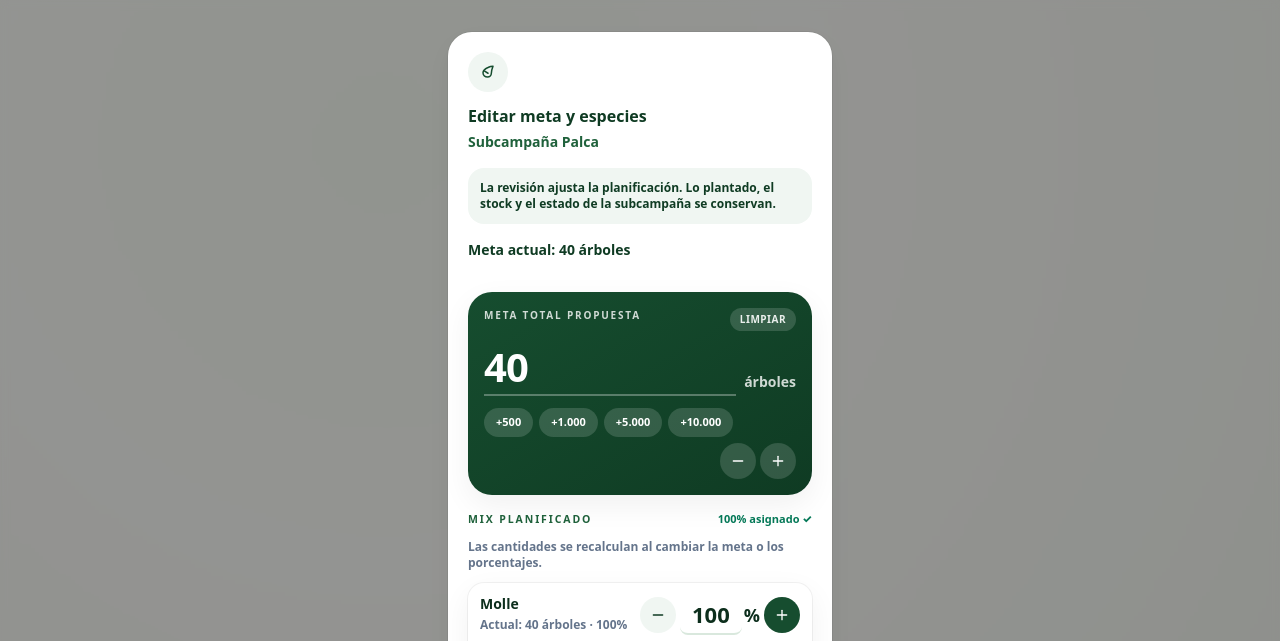
Test: Editor de revisión de metas y especies › rechaza la meta inválida 1.5 sin perder lo escrito
Replace the text in the field labelled "Meta total propuesta" with "1.5" at (610, 368), box [484,339,736,396]
(page scrolled)
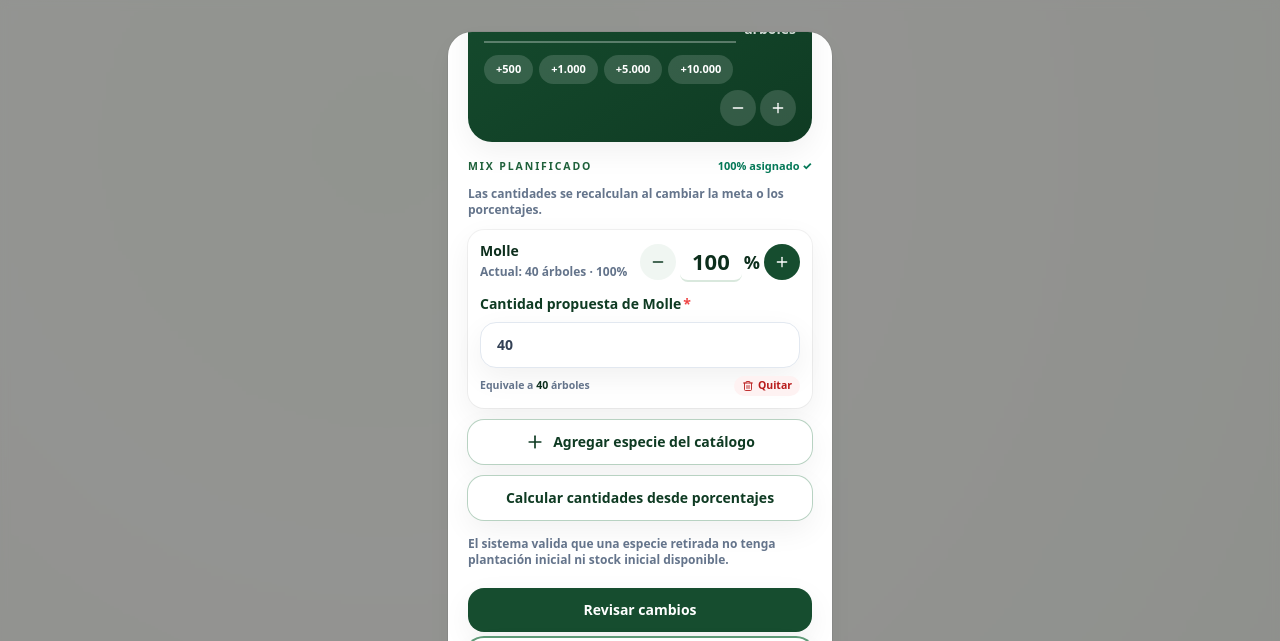
Click the button "Revisar cambios" at (640, 610), box [468,588,812,632]
(page scrolled)
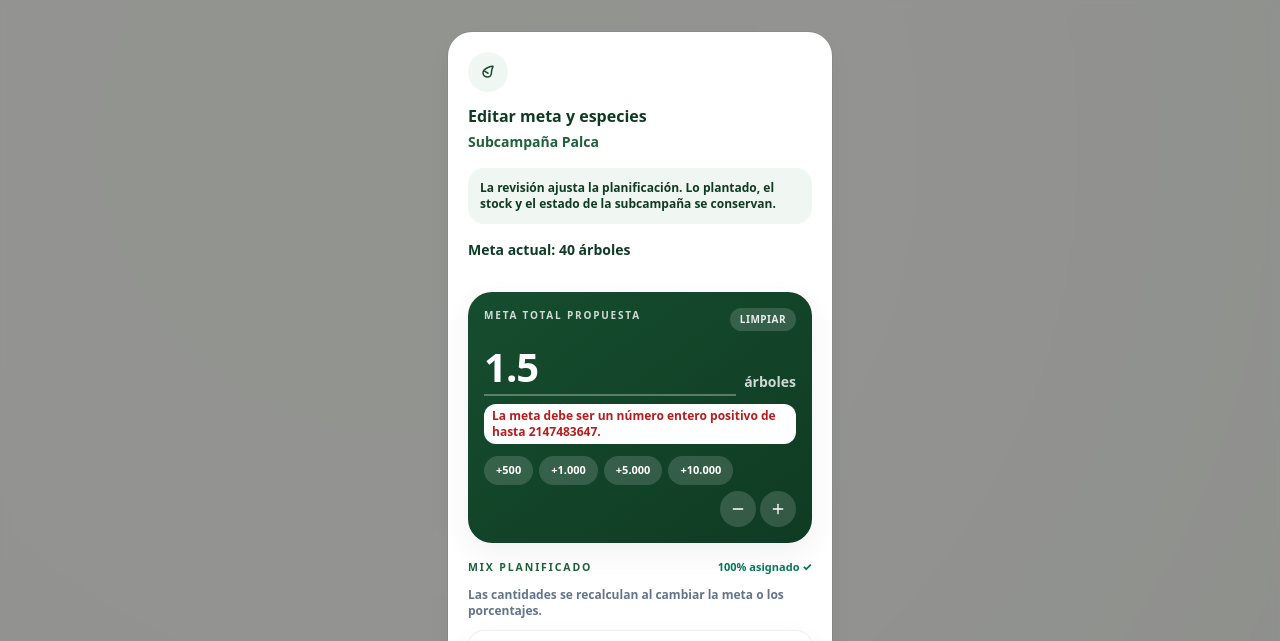
Now the text "La meta debe ser un número entero positivo de hasta 2147483647." is shown, box [484,404,796,444]
